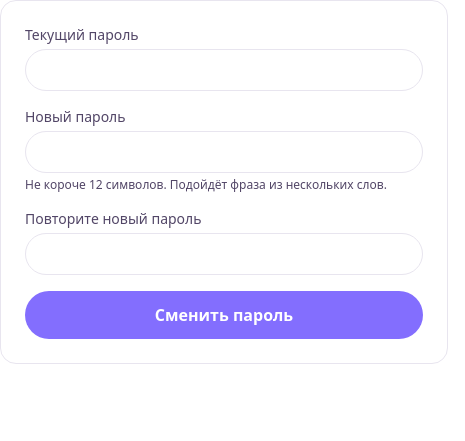
Test: <ChangePasswordForm> › короче 12 знаков: ошибка у формы, запрос не уходит
The image size is (465, 441).
Type "old-password" into the password field labelled "Текущий пароль". click: x=224, y=70
box: [25, 49, 423, 91]
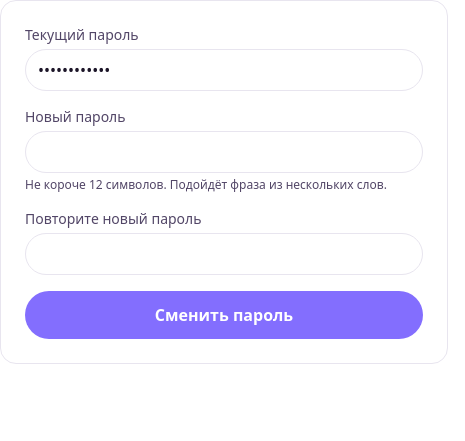
Type "короткий-1" into the password field labelled "Новый пароль". click: x=224, y=152
box: [25, 131, 423, 173]
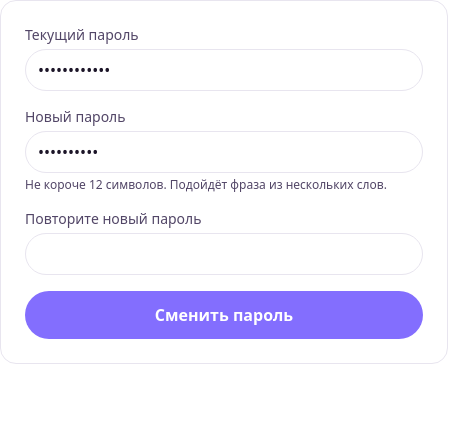
Type "короткий-1" into the password field labelled "Повторите новый пароль". click: x=224, y=254
box: [25, 233, 423, 275]
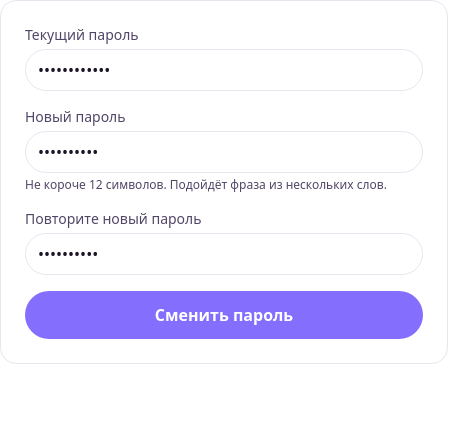
Click the button "Сменить пароль". click: x=224, y=315
box: [25, 291, 423, 339]
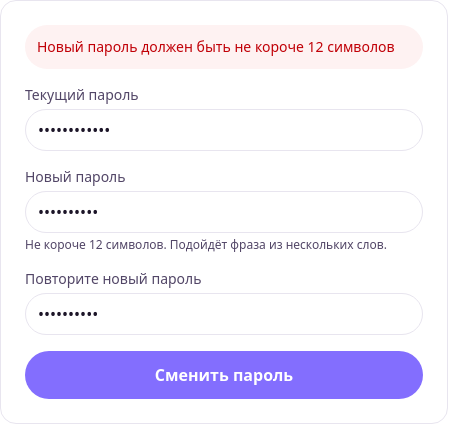
expect the message shows "не короче 12": met, box [37, 37, 394, 56]
